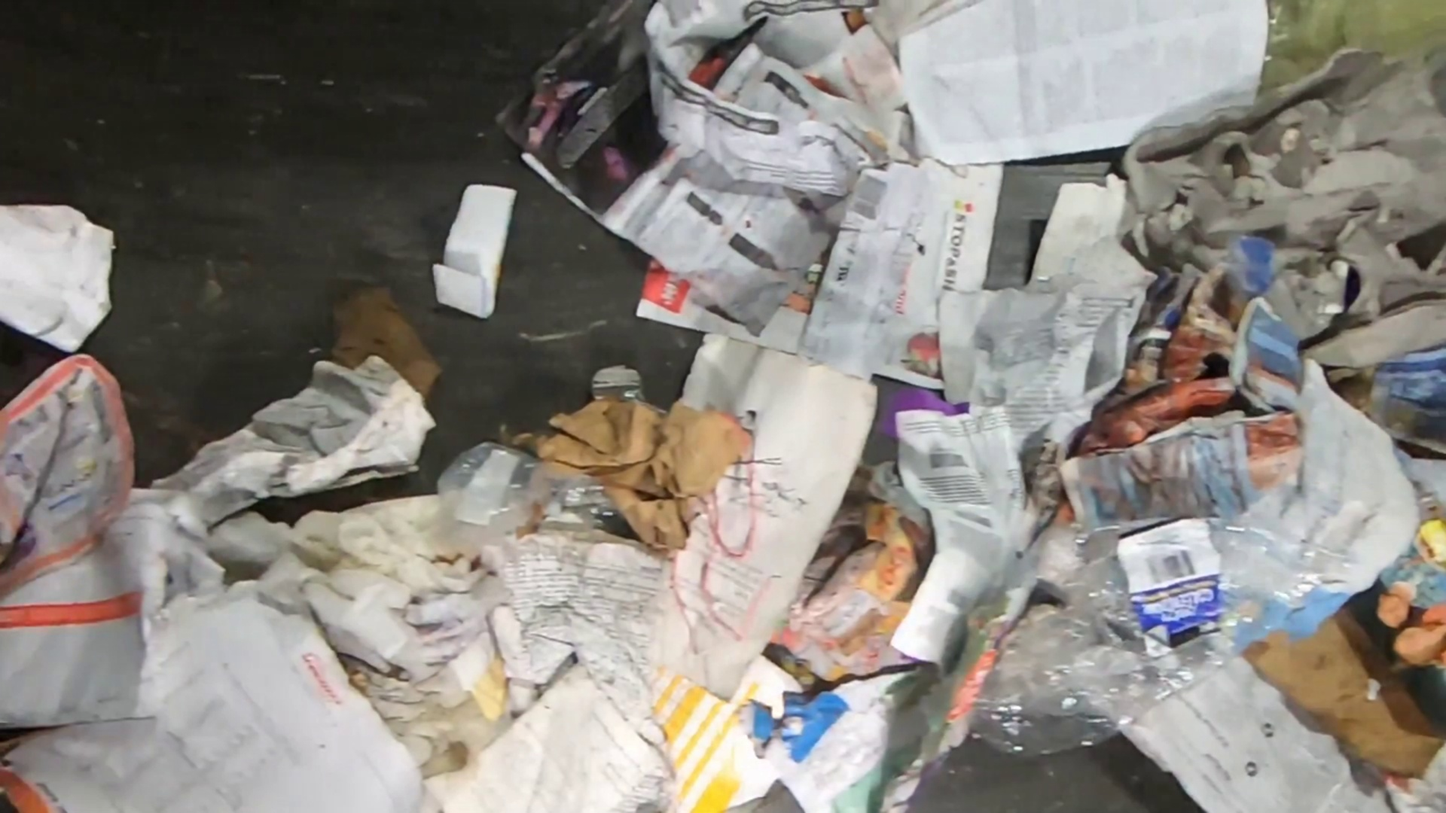cardboard: (498, 398, 753, 562), (1241, 603, 1446, 778), (1324, 341, 1446, 461)
plastic: (965, 515, 1368, 761), (1255, 0, 1446, 103), (434, 441, 623, 534)
